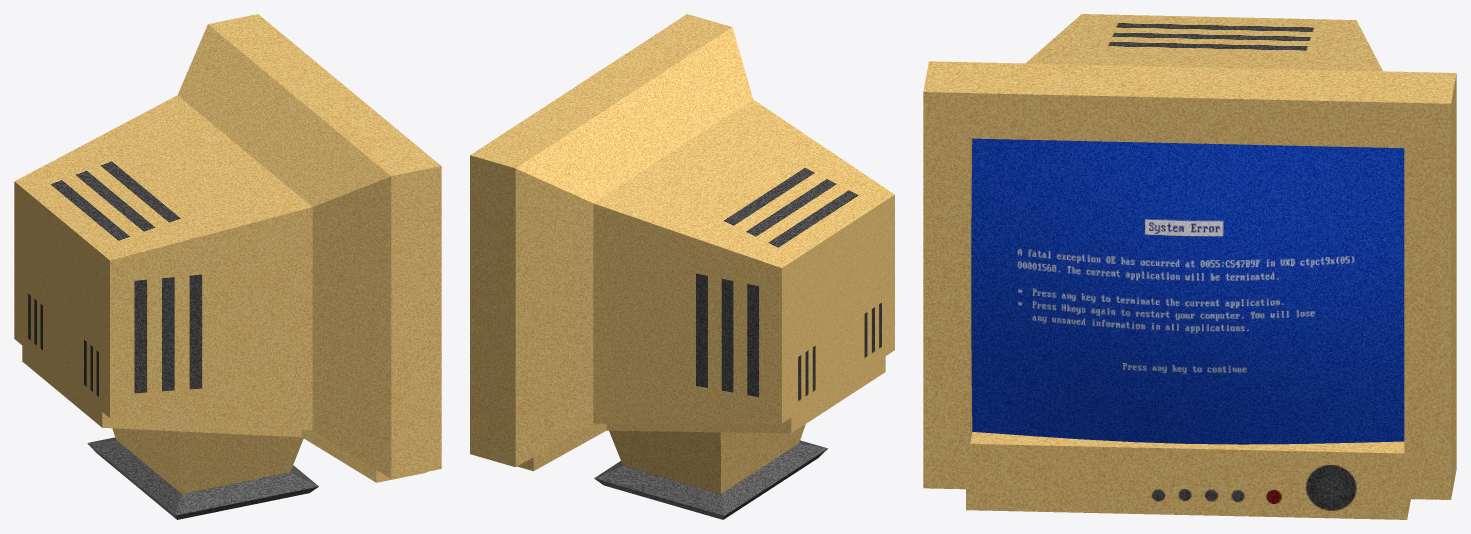
File: Oh Yeah my pc.fbx
The picture shows the model from 3 angles, left to right: view 1: azimuth 30°, elevation 25°; view 2: azimuth 150°, elevation 25°; view 3: azimuth 270°, elevation 25°; orthographic projection. The views are drawn at different scales.
Visible parts, largest first — view 1: Cube.011; view 2: Cube.011; view 3: Cube.011.
Boxes of the visible parts, bbox=[...] form: Cube.011: bbox=[14, 14, 441, 519]; Cube.011: bbox=[470, 14, 894, 519]; Cube.011: bbox=[923, 14, 1456, 519].
Size of the model in its own units: 59.29 by 68.93 by 72.04.
